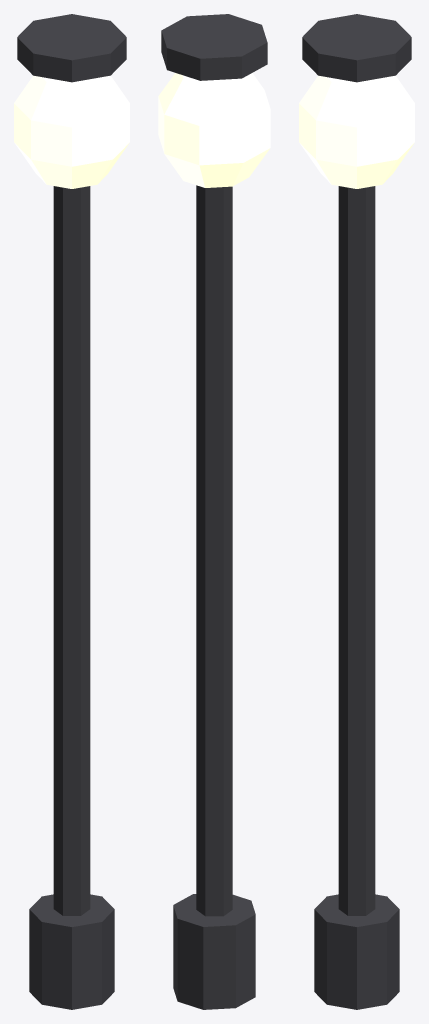
File: lamp_post.glb
3 renders of one model, left to right at view 1: azimuth 90°, elevation 25°; view 2: azimuth 210°, elevation 25°; view 3: azimuth 270°, elevation 25°, orthographic.
Visible parts, largest first — view 1: lamp_post; view 2: lamp_post; view 3: lamp_post.
Part boxes in pixels (<box>): lamp_post: <box>14,14,129,1009</box>; lamp_post: <box>158,14,270,1009</box>; lamp_post: <box>299,14,414,1009</box>.
Size of the model in its own units: 0.3804 by 3.46 by 0.3804.
